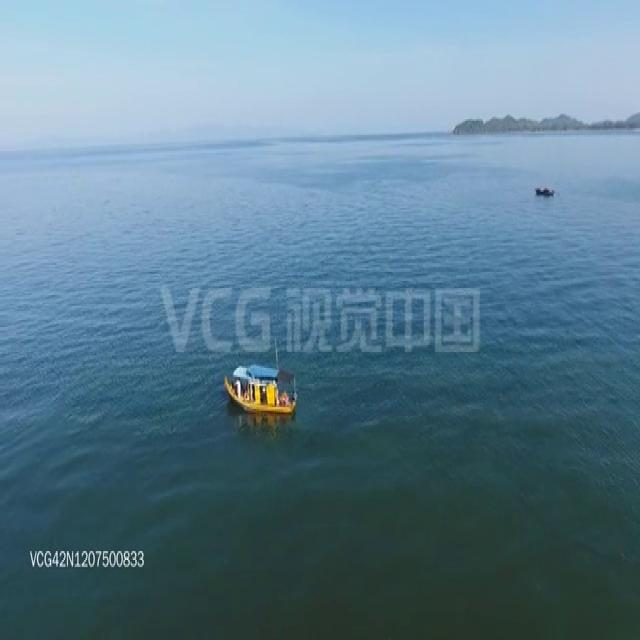fishing boat: (214, 343, 306, 421)
